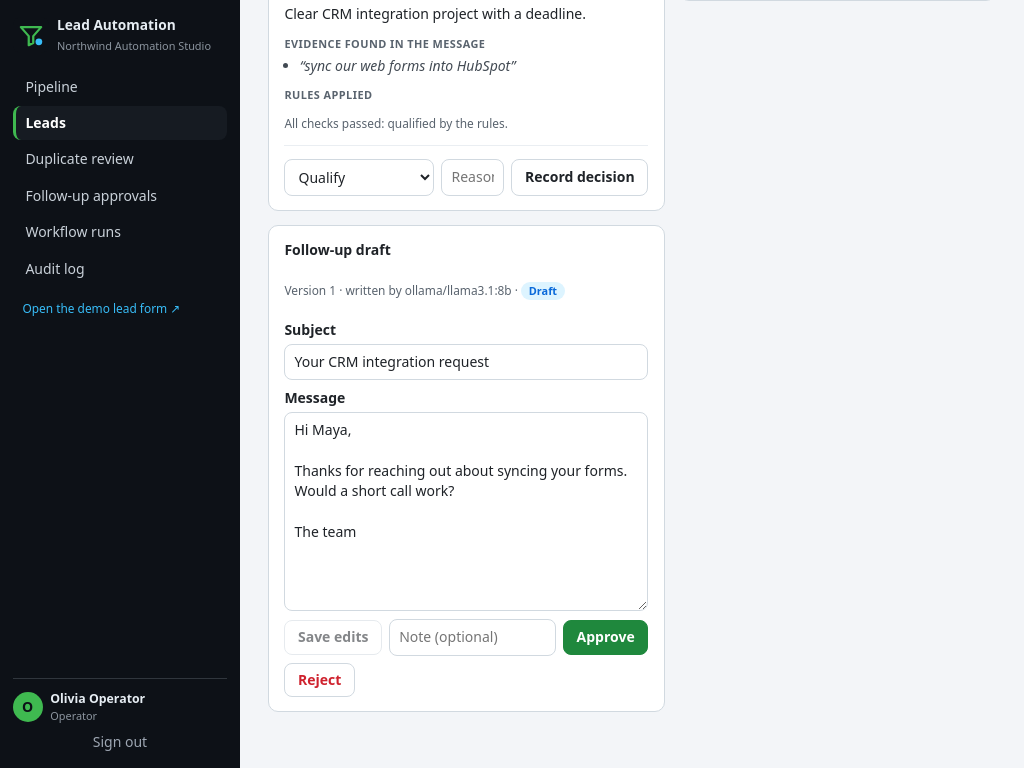
Test: follow-up approval › rejects without sending anything
(page scrolled)
Type "Wrong tone" into the field named "Decision note" at (473, 637), box [389,619,556,656]
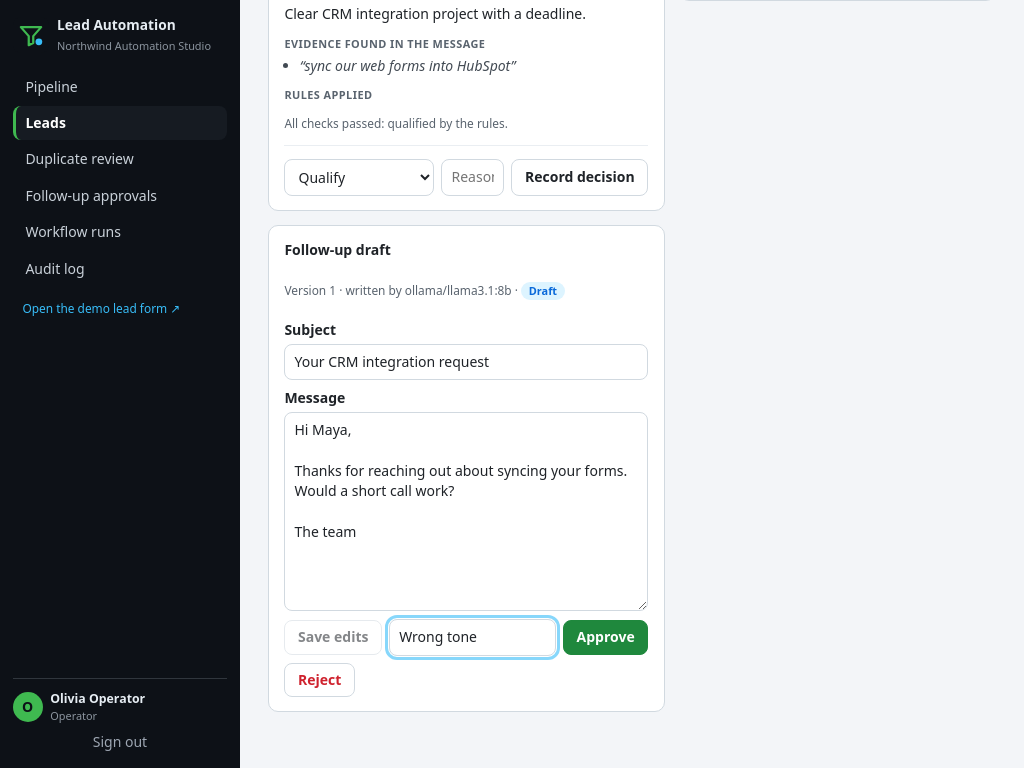
Click the button "Reject" at (320, 680), box [284,662,355,697]
(page scrolled)
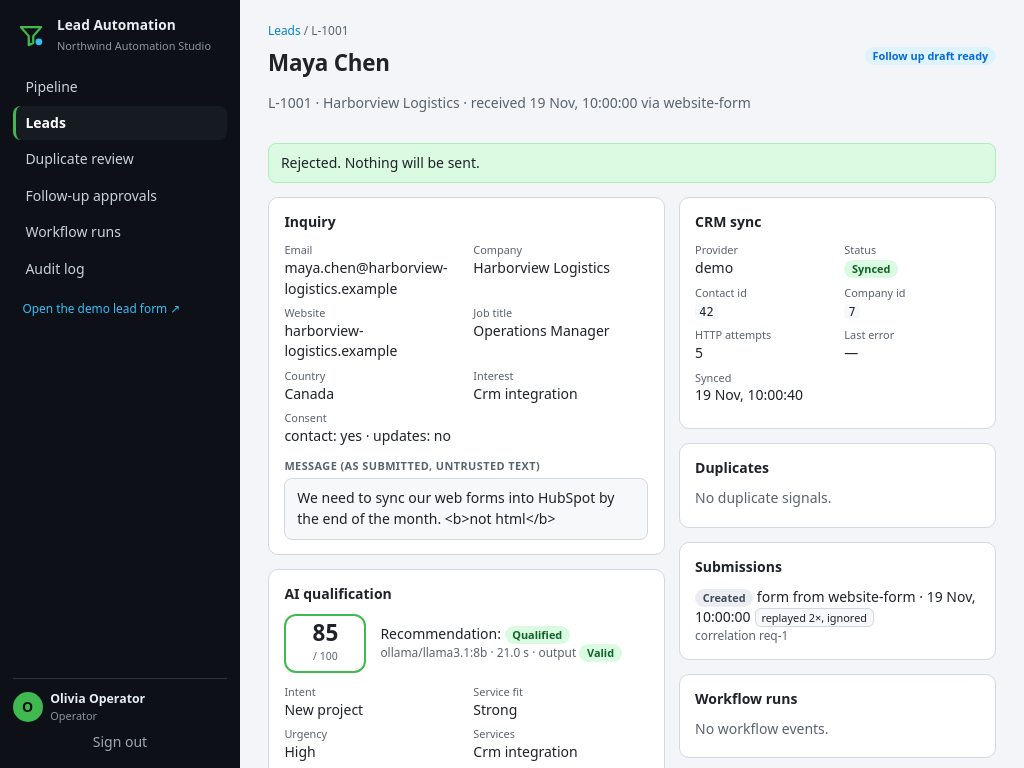
Expected: the text "Rejected. Nothing will be sent." is shown, [268,143,996,183]
